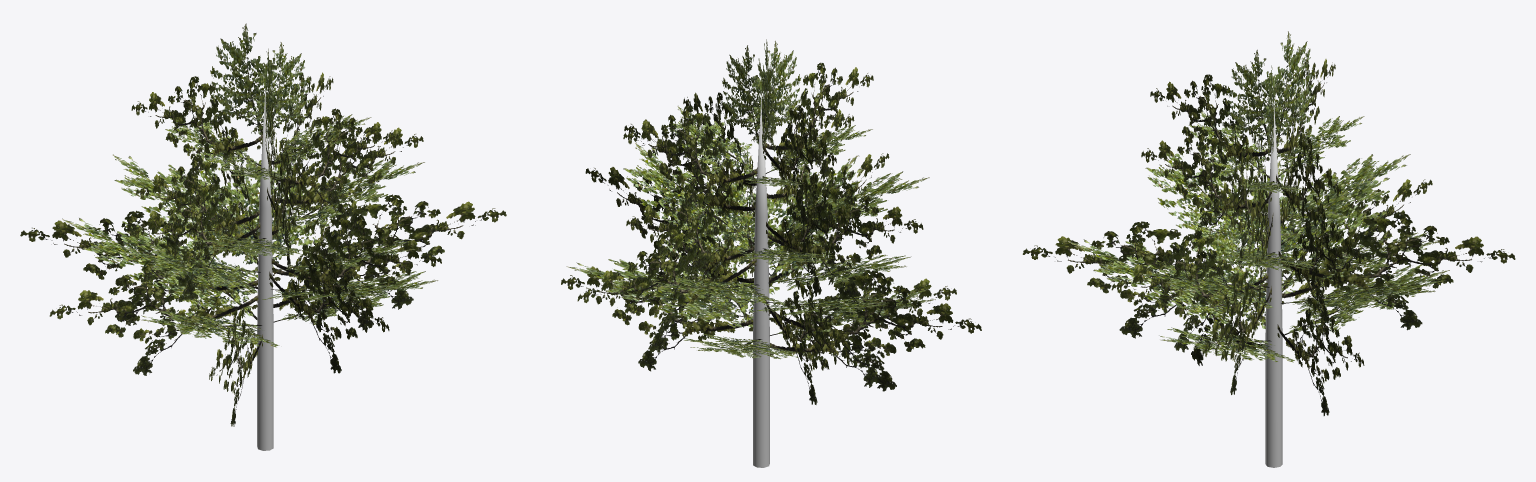
Rendered from Tree.fbx.
3 renders of one model, left to right at view 1: azimuth 30°, elevation 25°; view 2: azimuth 150°, elevation 25°; view 3: azimuth 270°, elevation 25°, orthographic. The views are drawn at different scales.
Visible parts, largest first — view 1: Cube.019, Cylinder.001, Cube.020, Cube.012, Cube.009, Cube.021, Cube.014, Cube.010, Cube.002, Cube.047, Cube.027, Cube.011 (+23 smaller); view 2: Cube.019, Cube.006, Cylinder.001, Cube.015, Cube.009, Cube.018, Cube.008, Cube.032, Cube.003, Cube.013, Cube.010, Cube.017 (+22 smaller); view 3: Cube.006, Cylinder.001, Cube.002, Cube.012, Cube.031, Cube.016, Cube.033, Cube.013, Cube.008, Cube.026, Cube.049, Cube.047 (+19 smaller).
Part boxes in pixels (x1,y1,x2,y2): Cube.019: (49, 258, 258, 375); Cylinder.001: (257, 88, 273, 450); Cube.020: (272, 194, 506, 309); Cube.012: (271, 214, 441, 330); Cube.009: (130, 182, 260, 298); Cube.021: (270, 108, 398, 219); Cube.014: (131, 76, 262, 188); Cube.010: (20, 210, 257, 325); Cube.002: (269, 251, 389, 373); Cube.047: (210, 23, 286, 134); Cube.027: (62, 218, 258, 307); Cube.011: (271, 121, 423, 235); Cube.019: (768, 270, 981, 391); Cube.006: (577, 230, 756, 352); Cylinder.001: (753, 91, 769, 467); Cube.015: (623, 105, 757, 223); Cube.009: (767, 182, 923, 298); Cube.018: (626, 186, 754, 303); Cube.008: (561, 253, 753, 371); Cube.032: (623, 142, 754, 245); Cube.003: (770, 269, 956, 387); Cube.013: (764, 62, 873, 180); Cube.010: (764, 277, 852, 404); Cube.017: (766, 177, 859, 296); Cube.006: (1280, 212, 1515, 330); Cylinder.001: (1265, 100, 1282, 467); Cube.002: (1022, 221, 1266, 338); Cube.012: (1111, 234, 1268, 352); Cube.031: (1279, 154, 1410, 245); Cube.016: (1141, 129, 1268, 240); Cube.033: (1145, 147, 1263, 245); Cube.013: (1150, 74, 1270, 190); Cube.008: (1277, 295, 1364, 415); Cube.026: (1068, 239, 1266, 324); Cube.049: (1226, 49, 1292, 151); Cube.047: (1258, 31, 1315, 148).
Bounding box in the file's own units: 2218 × 2096 × 2220.
